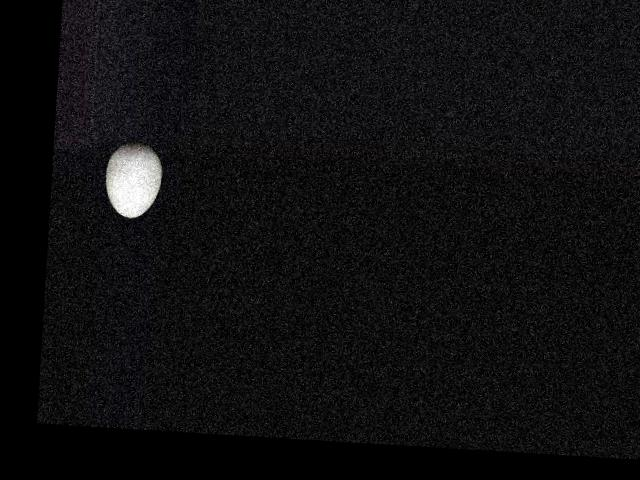egg: (103, 139, 162, 219)
